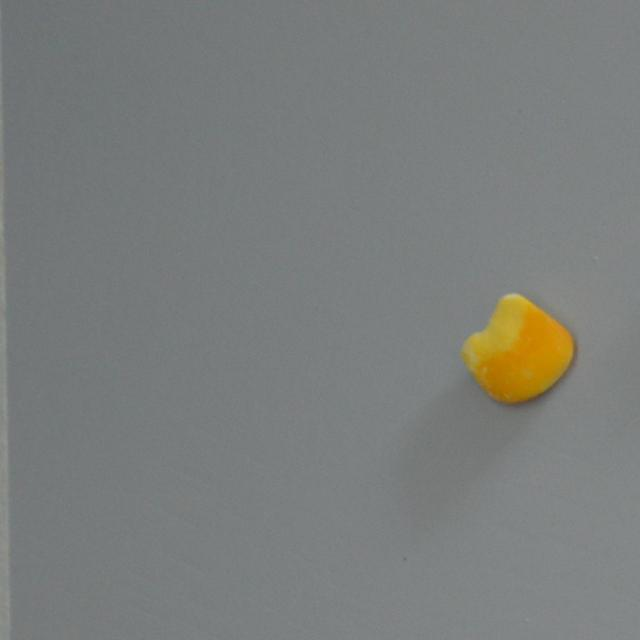pelicula: (458, 293, 576, 403)
